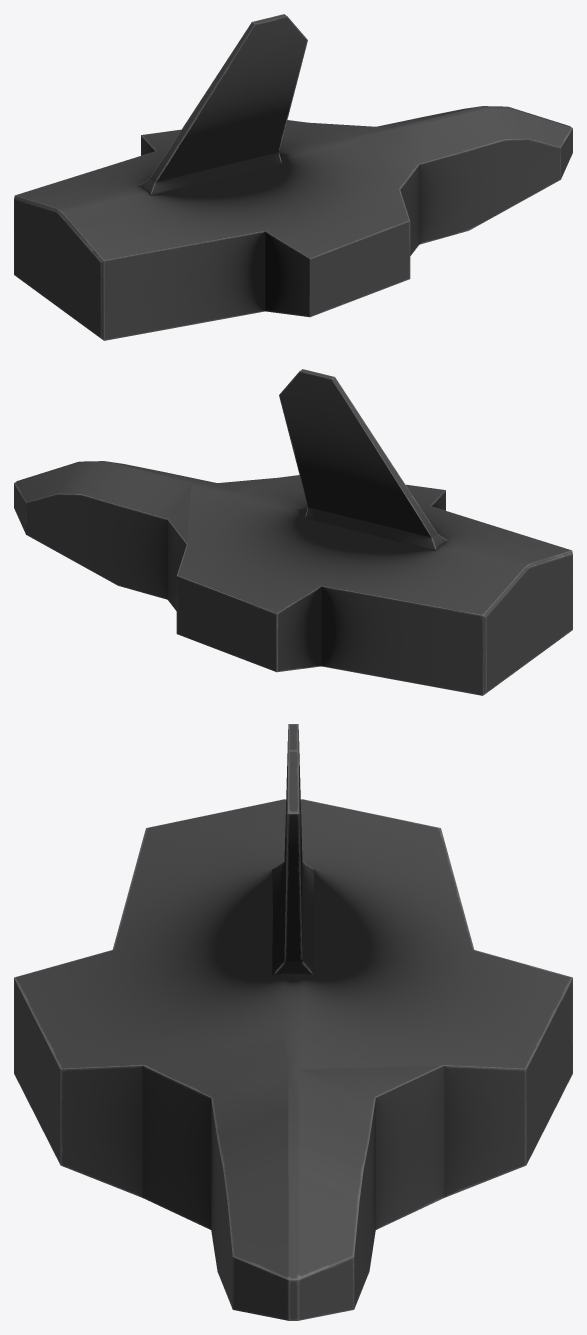
File: strangebuilding.glb
3 views of the same model, one above another, from view 1: azimuth 30°, elevation 25°; view 2: azimuth 150°, elevation 25°; view 3: azimuth 270°, elevation 25° (orthographic). The views are drawn at different scales.
Parts seen in each view (by area): view 1: Cube.013; view 2: Cube.013; view 3: Cube.013.
Boxes of the visible parts, x1=… form: Cube.013: x1=14, y1=14, x2=572, y2=340; Cube.013: x1=14, y1=369, x2=572, y2=695; Cube.013: x1=14, y1=724, x2=572, y2=1320.
Bounding box in the file's own units: 109 × 48.16 × 62.17.
Materials: 1 (1 with a texture image).
